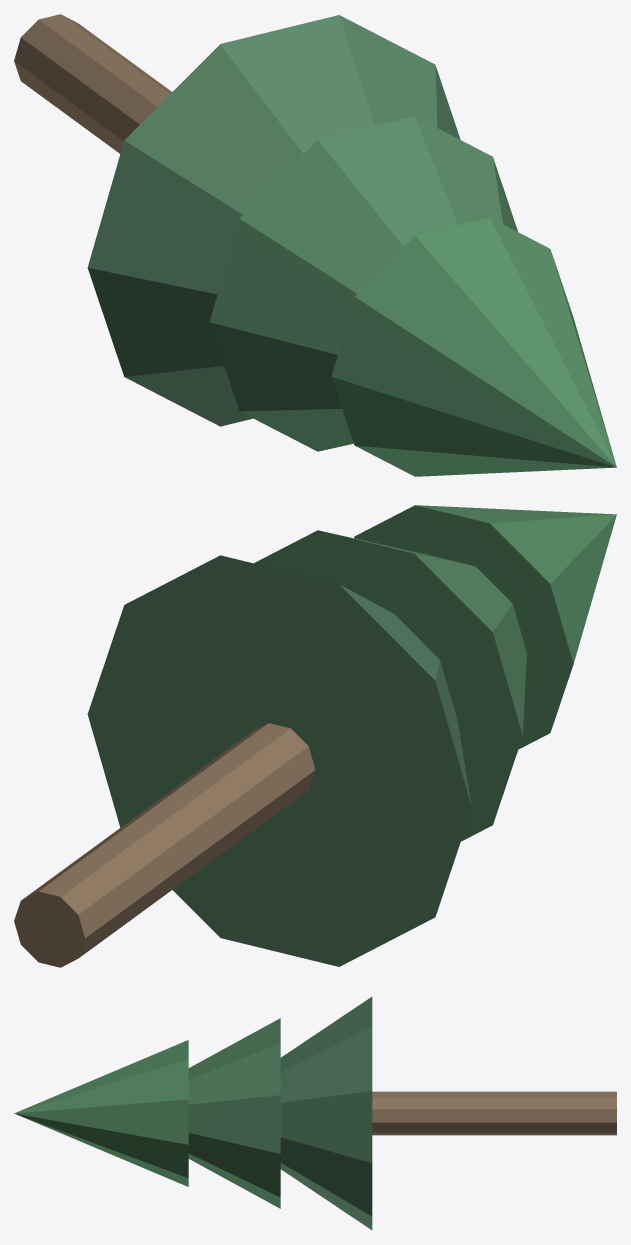
The model's file is pine_tree_01.glb.
The picture shows the model from 3 angles, top to bottom: view 1: azimuth 30°, elevation 25°; view 2: azimuth 150°, elevation 25°; view 3: azimuth 270°, elevation 25°; orthographic projection. The views are drawn at different scales.
Visible parts, largest first — view 1: pine_layer_0, pine_layer_2, pine_layer_1, trunk; view 2: pine_layer_0, trunk, pine_layer_1, pine_layer_2; view 3: pine_layer_0, pine_layer_1, pine_layer_2, trunk.
Boxes of the visible parts, x1,y1,x2,y2 form: pine_layer_0: (87,15,460,426); pine_layer_2: (331,217,616,476); pine_layer_1: (209,116,517,451); trunk: (14,14,171,153); pine_layer_0: (87,555,471,966); trunk: (14,723,315,967); pine_layer_1: (254,530,526,841); pine_layer_2: (354,505,616,749); pine_layer_0: (280,996,372,1230); pine_layer_1: (188,1018,280,1208); pine_layer_2: (14,1040,188,1186); trunk: (372,1091,616,1135).
Bounding box in the file's own units: 2.7 × 2.57 × 6.9.
